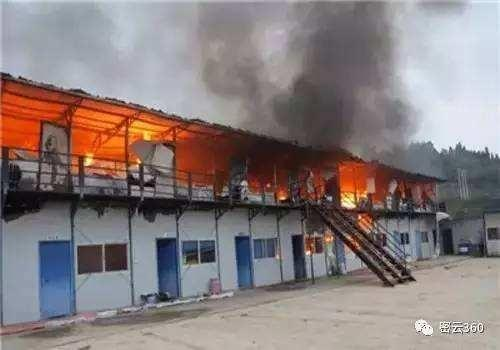fire: (254, 158, 381, 260), (60, 121, 168, 187)
